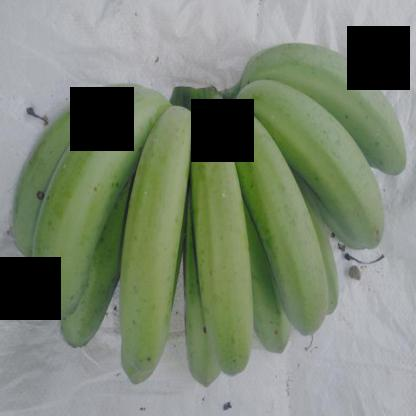unripe: (29, 67, 153, 326), (216, 95, 332, 331), (115, 93, 202, 378), (178, 98, 262, 386), (251, 33, 409, 174)
